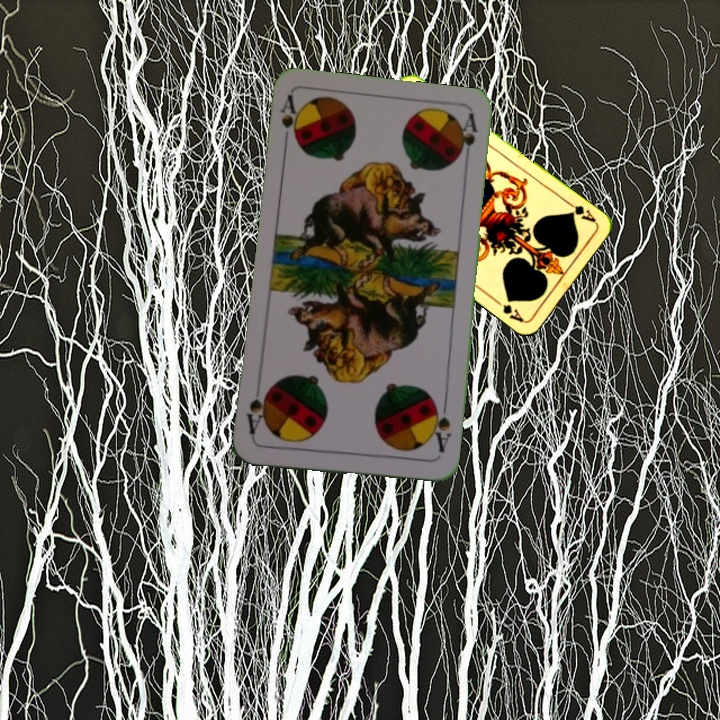GA: (562, 197, 599, 225)
SA: (277, 91, 305, 151), (426, 400, 454, 455)
